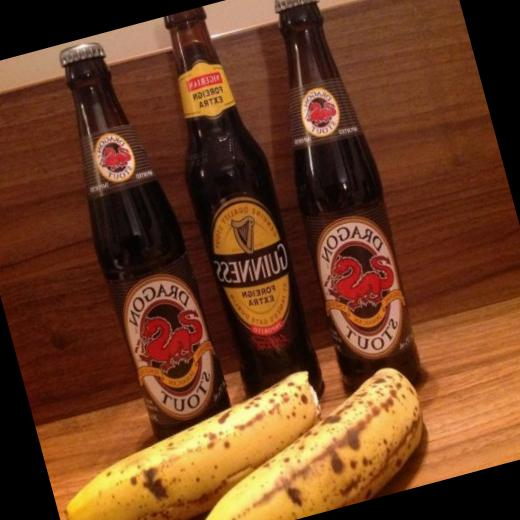Banana: (160, 363, 441, 520)
